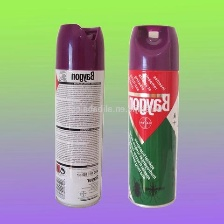aerosol_cans: (51, 20, 110, 211), (125, 18, 181, 208)
